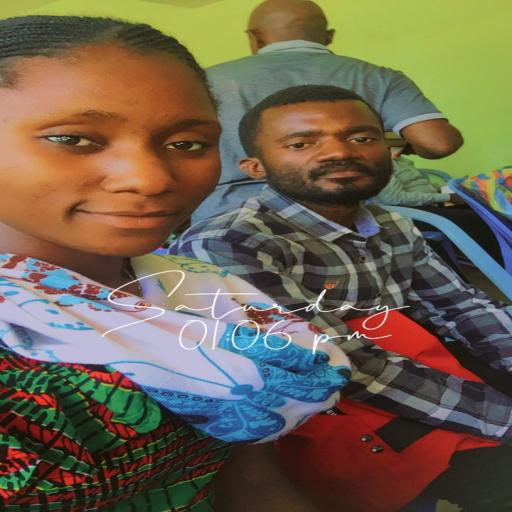MATTHIEU: (249, 105, 425, 206)
